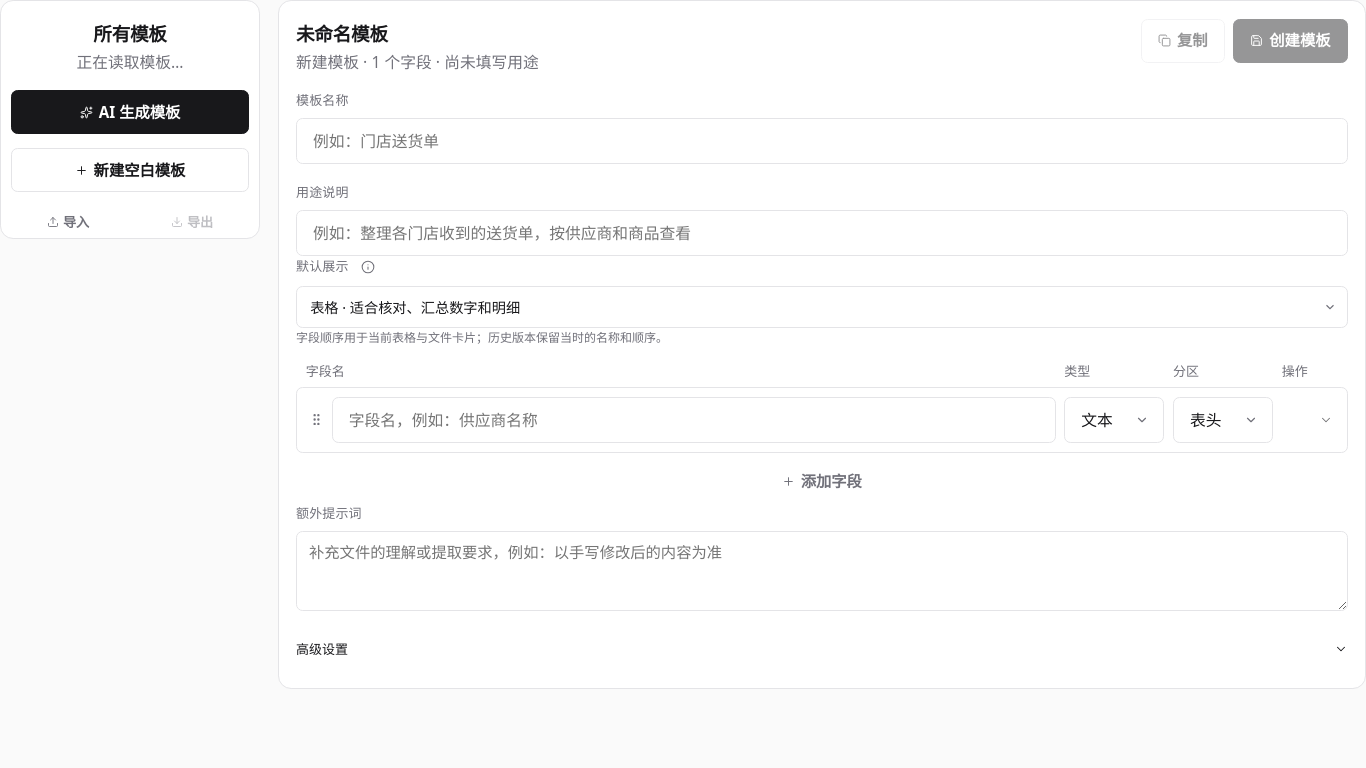
Test: template catalog read boundaries › a late initial read preserves an explicit new draft (edited=false) without asking to discard
Click the button "新建空白模板" at coordinates (130, 170), box x1=11 y1=148 x2=249 y2=192
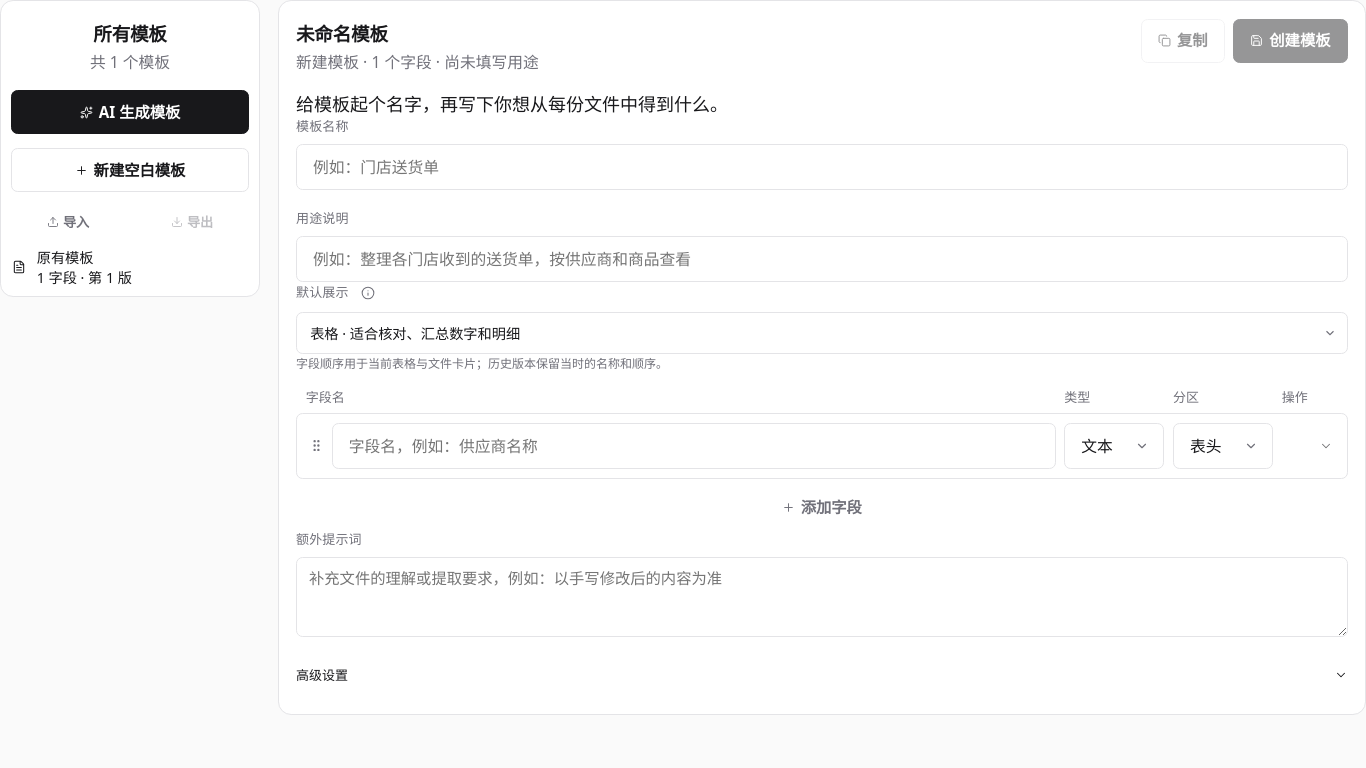
Expected: the button "复制" is disabled, x1=1141 y1=18 x2=1224 y2=62
Now the text "原有模板" is shown, box x1=37 y1=248 x2=94 y2=267
